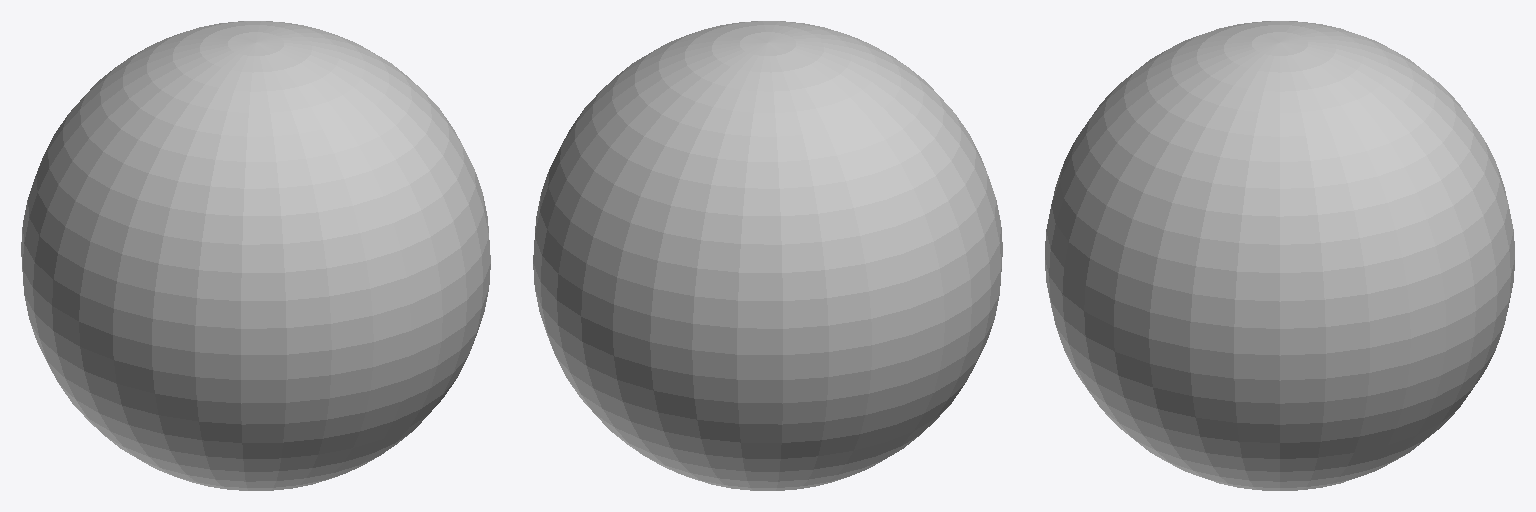
The model's file is MetalBall.obj.
3 renders of one model, left to right at view 1: azimuth 30°, elevation 25°; view 2: azimuth 150°, elevation 25°; view 3: azimuth 270°, elevation 25°, orthographic.
Parts seen in each view (by area): view 1: Sphere; view 2: Sphere; view 3: Sphere.
Boxes of the visible parts, x1,y1,x2,y2 form: Sphere: [21, 21, 490, 490]; Sphere: [533, 21, 1002, 490]; Sphere: [1045, 21, 1514, 490].
Size of the model in its own units: 2 by 2 by 2.